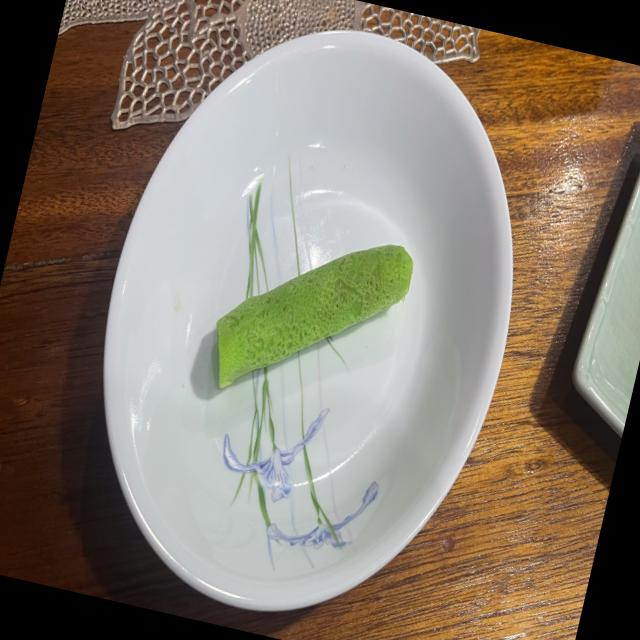Kuih-Ketayap: (216, 244, 413, 387)
